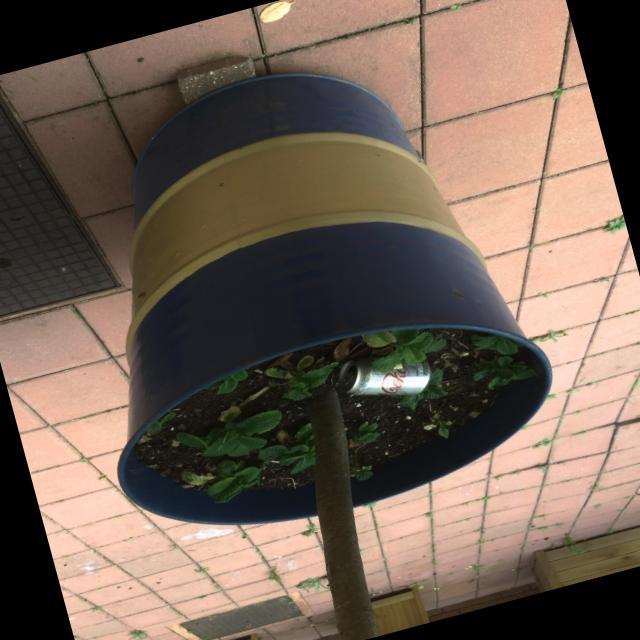less trash: (338, 357, 431, 395)
